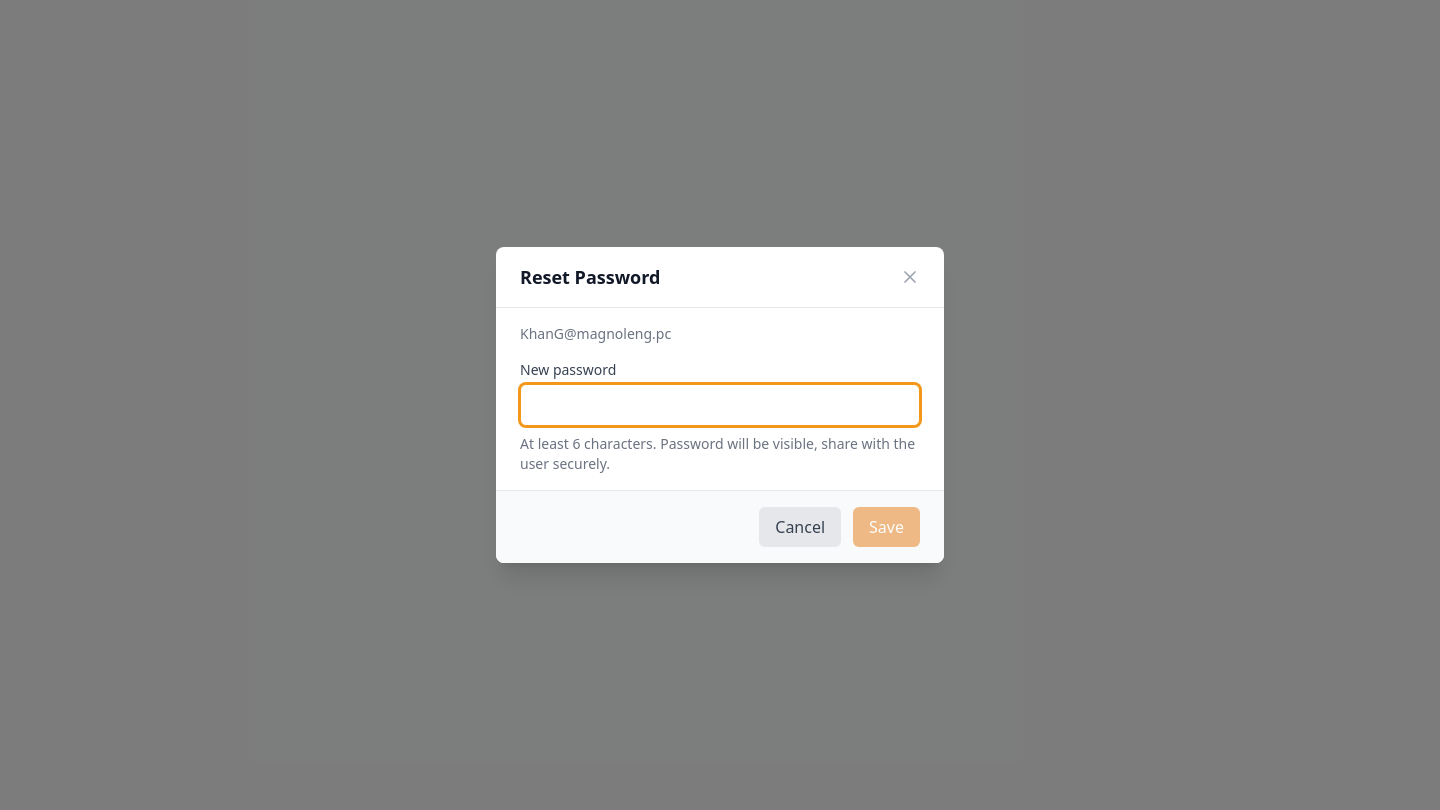
Test: AdminResetPasswordModal › keeps Save off until the password has six characters
This screenshot has width=1440, height=810.
Expected: the button "Save" is disabled, [853,507,920,547]
Type "12345" into the field labelled "New password" at coordinates (720, 405), box [520,384,920,426]
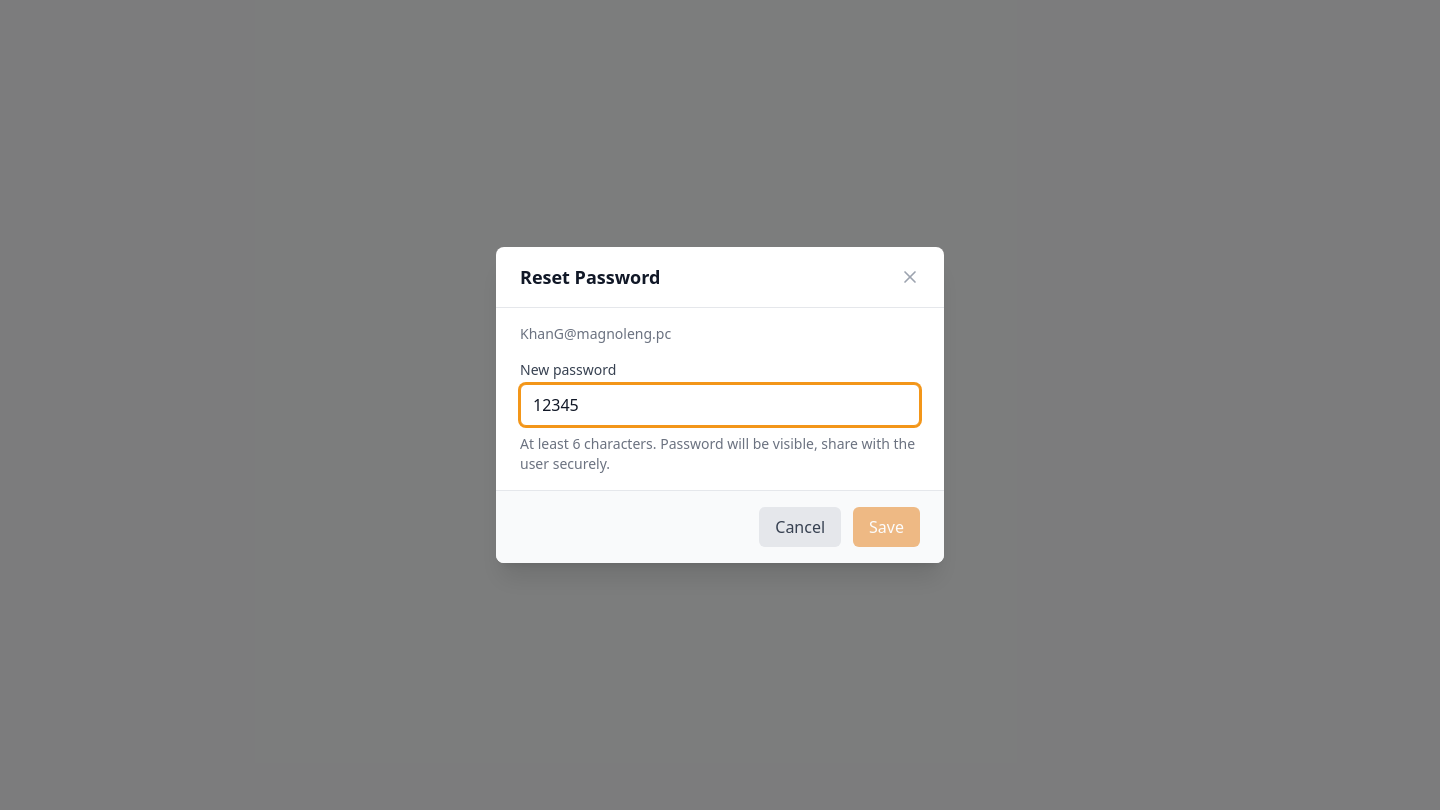
Expected: the button "Save" is disabled, [853,507,920,547]
Type "6" into the field labelled "New password" at coordinates (720, 405), box [520,384,920,426]
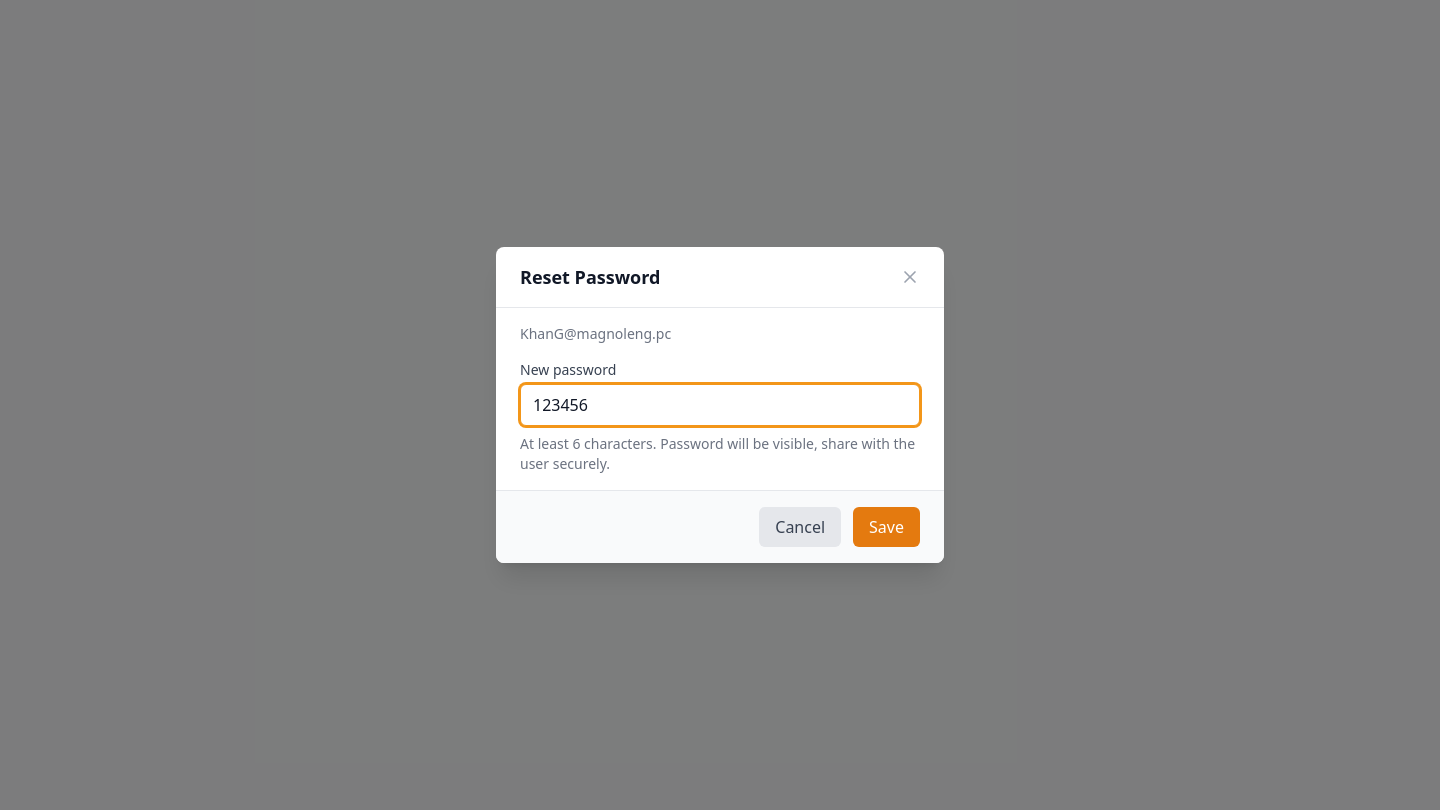
Expected: the button "Save" is enabled, [853,507,920,547]
